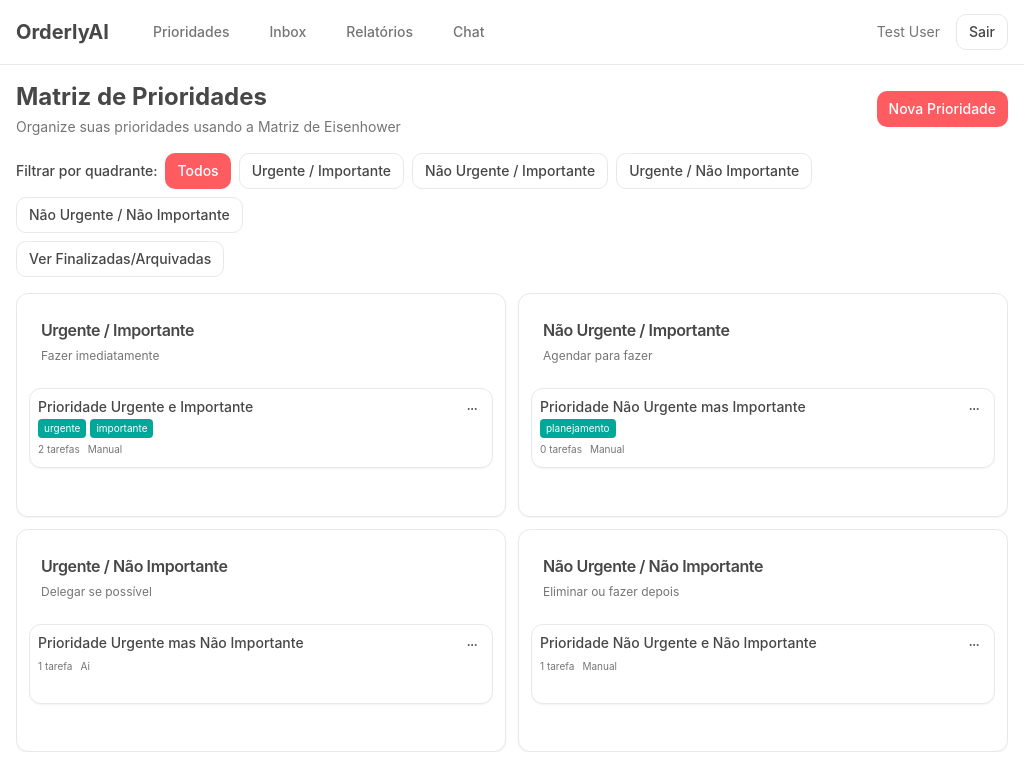
Scenario: PrioritiesPage › Criação de Prioridade › deve abrir o modal de criação ao clicar no botão
Expected: the heading "Matriz de Prioridades" is shown, [16, 82, 267, 111]
Click the button "Nova Prioridade". click: x=942, y=109
box: [876, 91, 1008, 127]
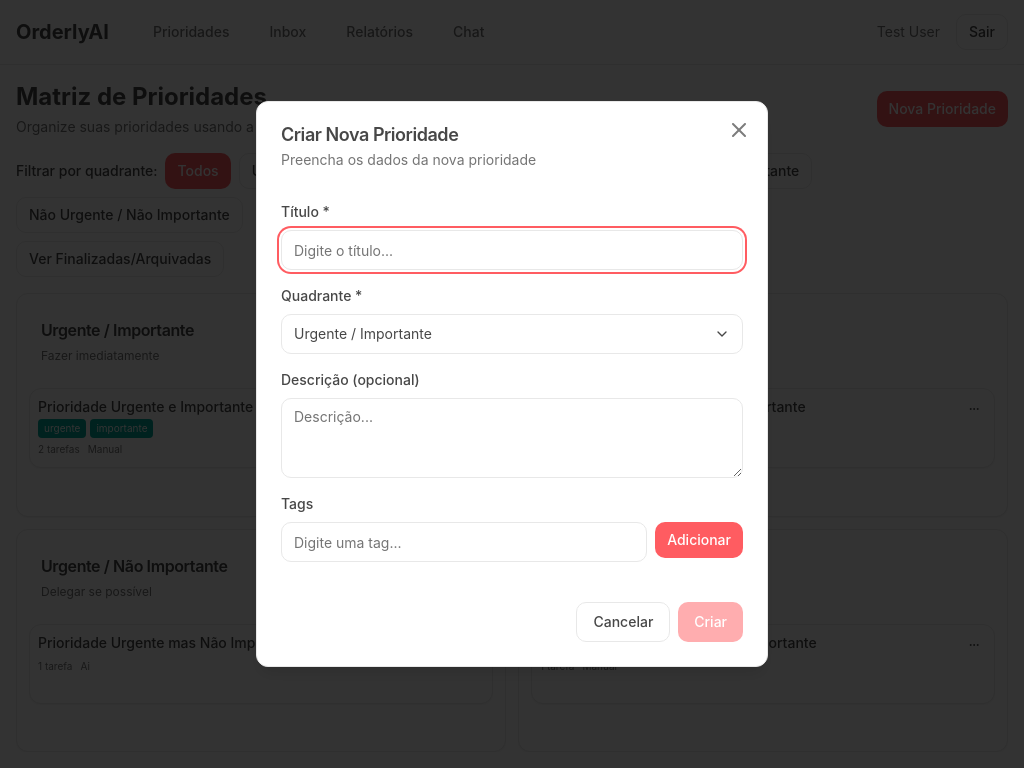
Expected: the dialog "Criar Nova Prioridade" is shown, [256, 101, 768, 667]
